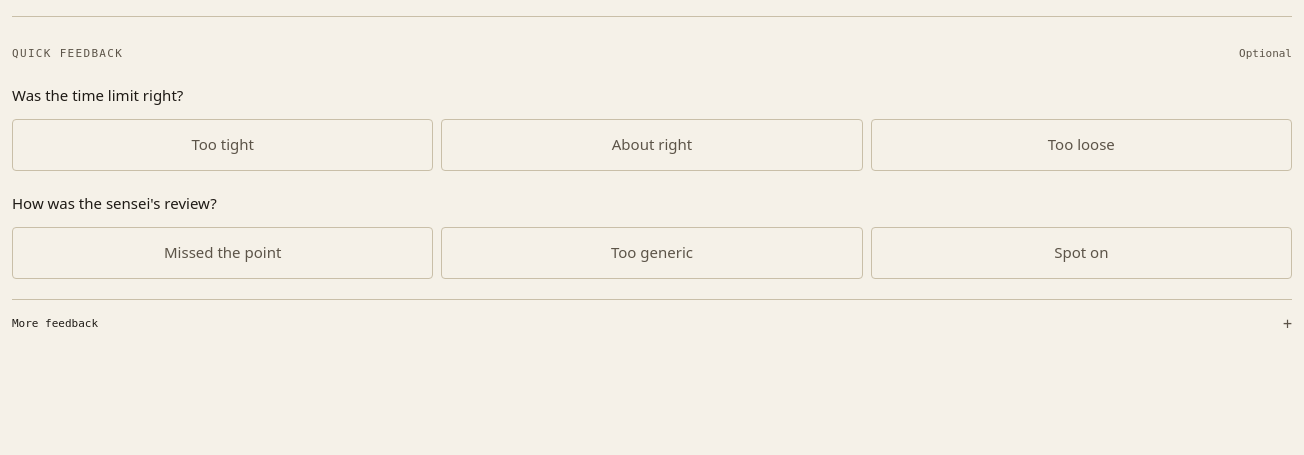
Test: FeedbackSection › keeps a failed vote beside its own question and retries that vote
Click the button "Spot on" at point(1081, 253), box [871,227,1292,279]
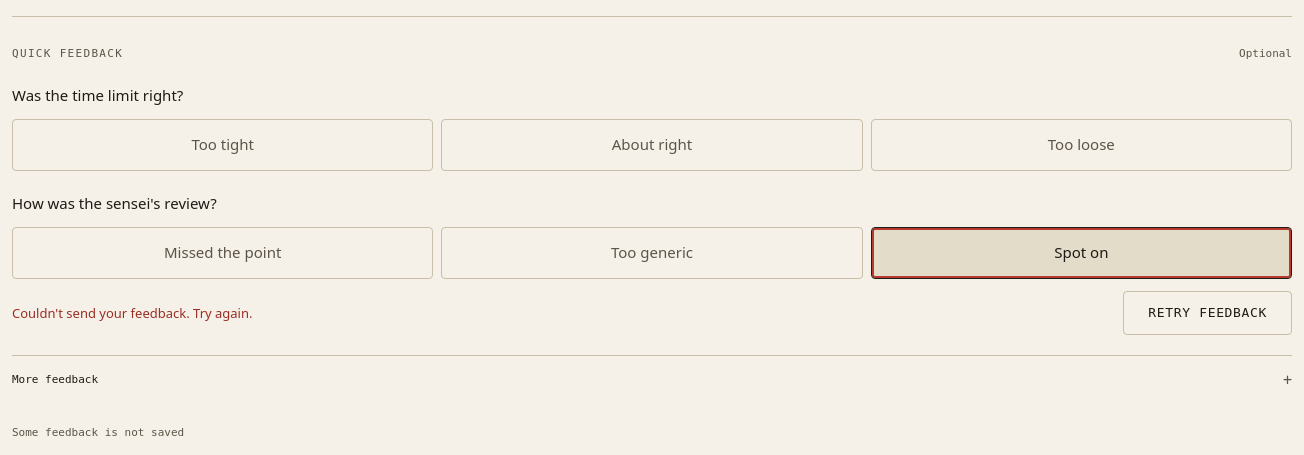
Result: the message "Couldn't send your feedback. Try again." is shown at [12,303,252,323]
Result: the text "Some feedback is not saved" is shown at [12,426,184,439]
Click the button "Retry feedback" at point(1208, 313), box [1123,291,1292,335]
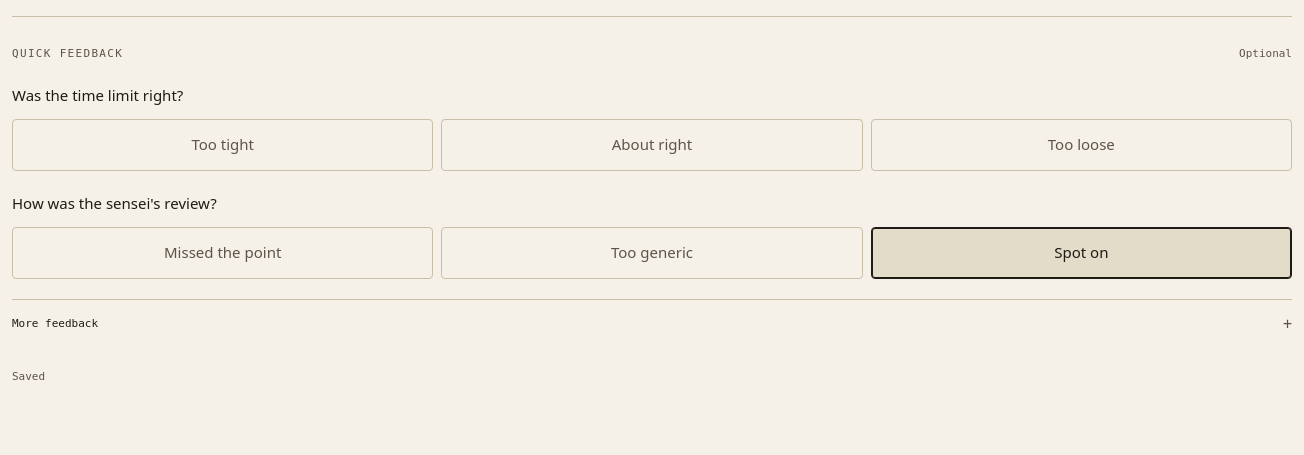
Result: the text "Saved" is shown at [12,370,45,383]
Result: the message "Couldn't send your feedback. Try again." is gone
